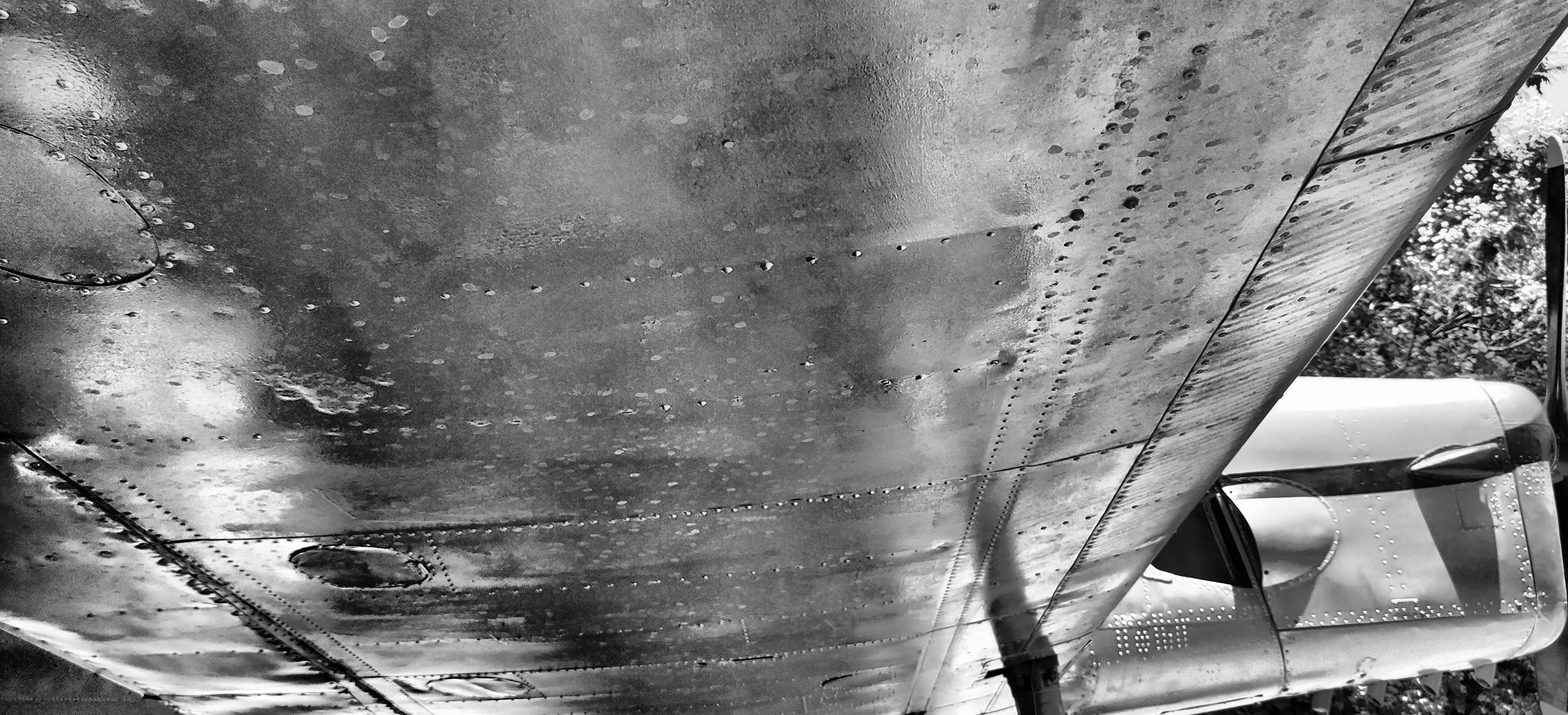dent: (3, 615, 102, 645), (136, 646, 283, 660), (889, 541, 956, 569), (221, 702, 334, 715), (980, 349, 1018, 377), (393, 677, 430, 698), (270, 671, 322, 685)
missing-head: (87, 153, 100, 163), (697, 661, 709, 667), (1175, 94, 1185, 101), (1512, 507, 1518, 514), (1293, 619, 1299, 625), (1264, 569, 1269, 575), (1228, 491, 1233, 494)
